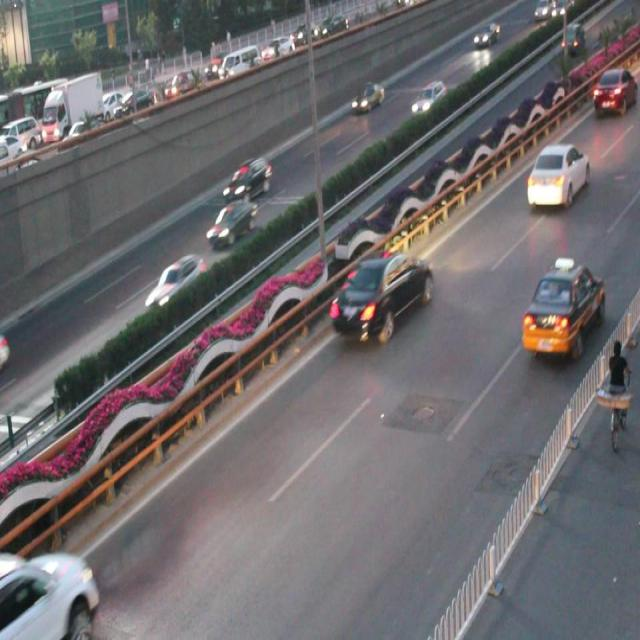car: (332, 250, 432, 344), (0, 548, 98, 640), (521, 258, 600, 357), (525, 143, 590, 210), (145, 257, 208, 311), (206, 200, 255, 247), (222, 159, 272, 199), (409, 82, 448, 117), (349, 82, 384, 114)
